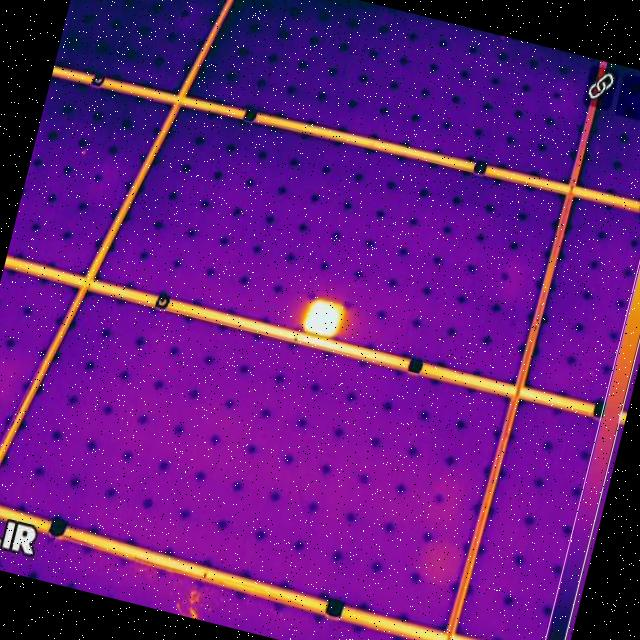Hotspot: (300, 295, 346, 338)
